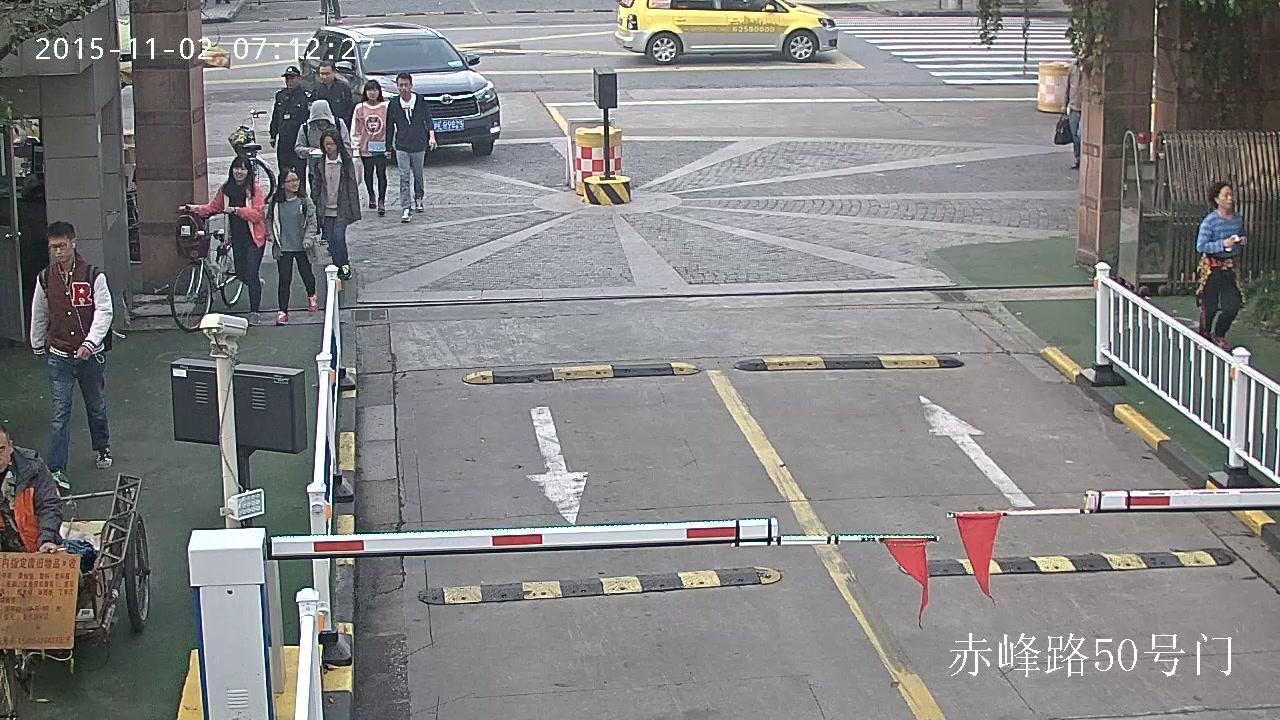face: (49, 237, 71, 261), (1219, 186, 1233, 209), (0, 433, 8, 471), (233, 162, 248, 180), (285, 173, 299, 191), (322, 136, 336, 154), (319, 66, 333, 82), (398, 77, 409, 94), (285, 74, 298, 88), (366, 88, 378, 101), (315, 119, 328, 129)
